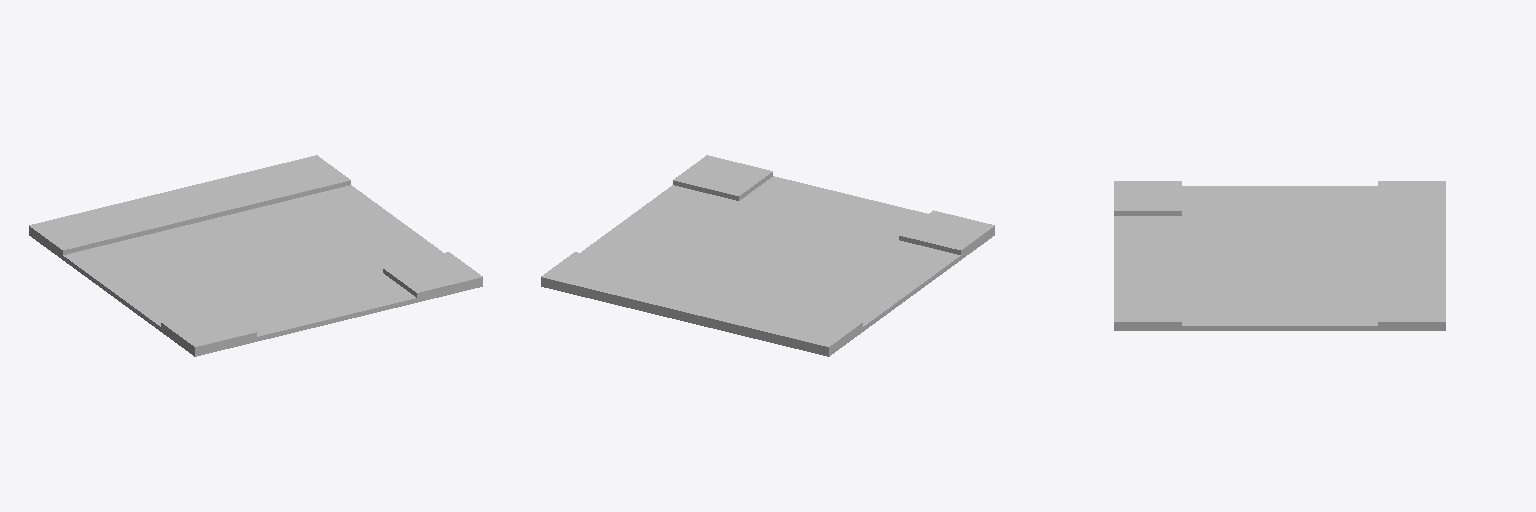
The model's file is _oad_base-0.obj.
The picture shows the model from 3 angles: view 1: azimuth 30°, elevation 25°; view 2: azimuth 150°, elevation 25°; view 3: azimuth 270°, elevation 25°; orthographic projection.
Parts seen in each view (by area): view 1: object 1; view 2: object 1; view 3: object 1.
Part boxes in pixels (bbox=[...]): object 1: bbox=[29, 155, 482, 356]; object 1: bbox=[541, 155, 994, 356]; object 1: bbox=[1114, 181, 1445, 330].
Size of the model in its own units: 12.6 by 0.4 by 12.6.